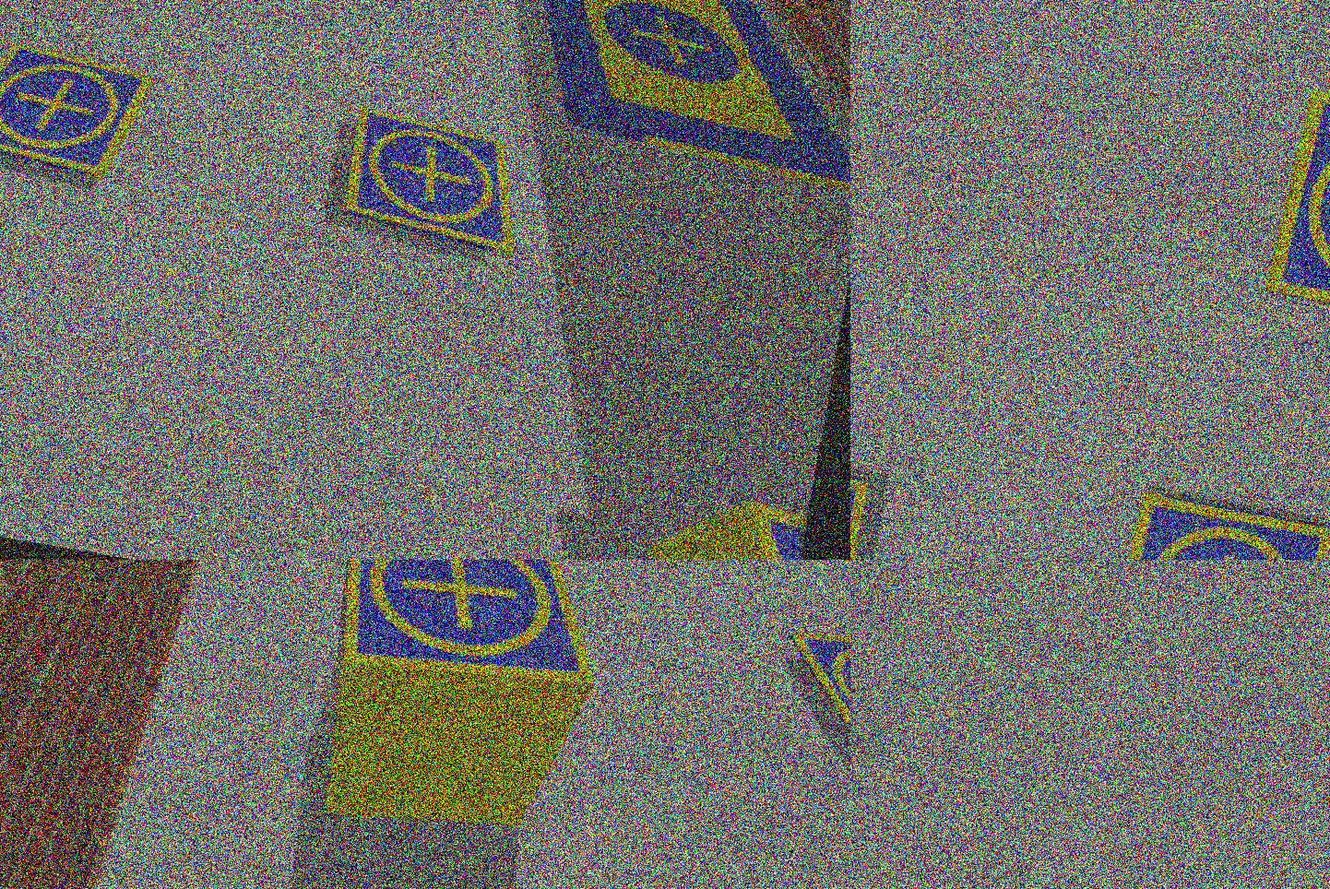large_base: (497, 1, 850, 194)
small_base: (326, 561, 620, 709), (333, 104, 537, 260), (1, 35, 155, 196), (1261, 83, 1330, 338), (1102, 487, 1330, 561), (771, 616, 850, 783)
